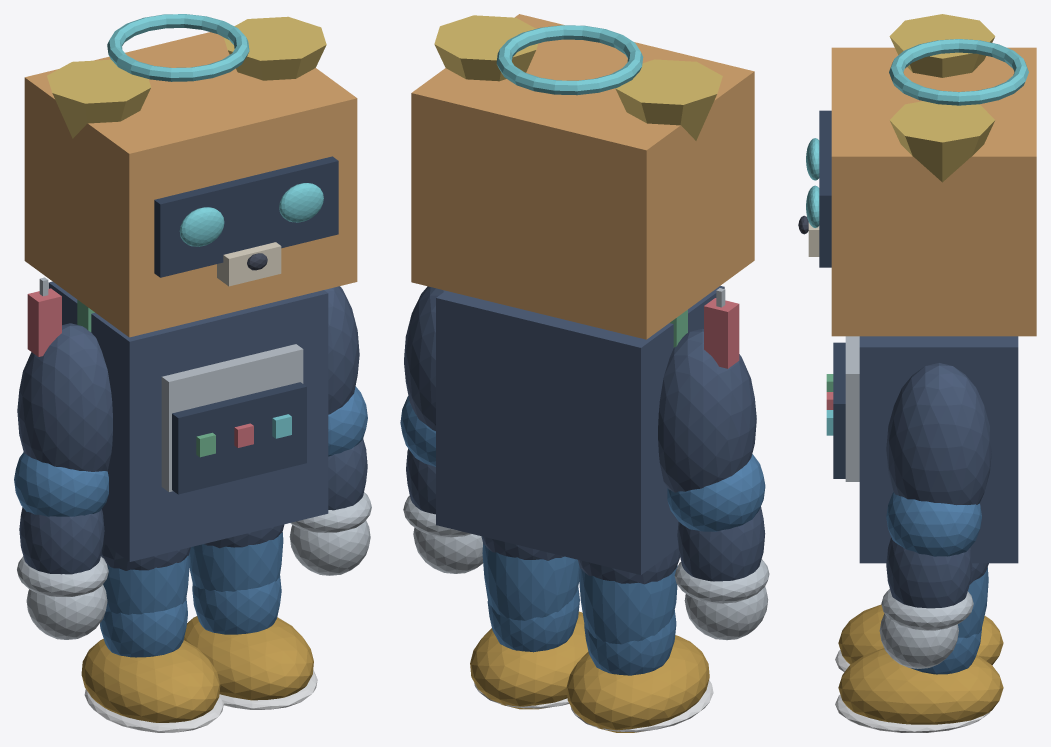
The model's file is avatar_ai_crypto_trader_v3.glb.
3 renders of one model, left to right at view 1: azimuth 30°, elevation 25°; view 2: azimuth 150°, elevation 25°; view 3: azimuth 270°, elevation 25°, orthographic. The views are drawn at different scales.
Visible parts, largest first — view 1: fox_head, body_core, face_visor, L_sleeve_upper, trading_console, L_shoe, R_shoe, chest_plate, fox_ear_L, fox_ear_R, L_sleeve_lower, L_elbow (+20 smaller); view 2: fox_head, body_core, L_sleeve_upper, L_shoe, R_shoe, fox_ear_L, L_leg, R_leg, head_signal, fox_ear_R, L_elbow, L_sleeve_lower (+13 smaller); view 3: fox_head, body_core, R_sleeve_upper, R_shoe, fox_ear_R, R_elbow, R_sleeve_lower, head_signal, fox_ear_L, R_hand, L_shoe, chest_plate (+8 smaller).
Boxes of the visible parts, x1,y1,x2,y2 form: fox_head: (24, 32, 357, 337); body_core: (48, 281, 328, 561); face_visor: (154, 156, 338, 277); L_sleeve_upper: (17, 323, 112, 471); trading_console: (172, 382, 306, 494); L_shoe: (81, 639, 220, 722); R_shoe: (183, 616, 313, 700); chest_plate: (161, 344, 303, 491); fox_ear_L: (47, 59, 150, 138); fox_ear_R: (224, 16, 326, 80); L_sleeve_lower: (19, 507, 104, 574); L_elbow: (14, 452, 108, 516); fox_head: (411, 14, 754, 339); body_core: (436, 286, 724, 574); L_sleeve_upper: (658, 328, 756, 492); L_shoe: (566, 635, 709, 732); R_shoe: (470, 611, 588, 709); fox_ear_L: (615, 59, 722, 140); L_leg: (579, 565, 677, 644); R_leg: (482, 543, 579, 620); head_signal: (496, 25, 643, 95); fox_ear_R: (434, 15, 537, 81); L_elbow: (667, 454, 765, 531); L_sleeve_lower: (677, 506, 765, 581); fox_head: (831, 47, 1036, 336); body_core: (859, 336, 1018, 563); R_sleeve_upper: (886, 363, 991, 505); R_shoe: (838, 648, 1003, 724); fox_ear_R: (889, 101, 995, 182); R_elbow: (886, 492, 981, 556); R_sleeve_lower: (886, 537, 972, 608); head_signal: (889, 39, 1028, 105); fox_ear_L: (889, 14, 995, 77); R_hand: (879, 613, 958, 668); L_shoe: (838, 604, 1003, 665); chest_plate: (845, 336, 859, 481).
Bounding box in the file's own units: 1.17 × 2.12 × 0.721.
